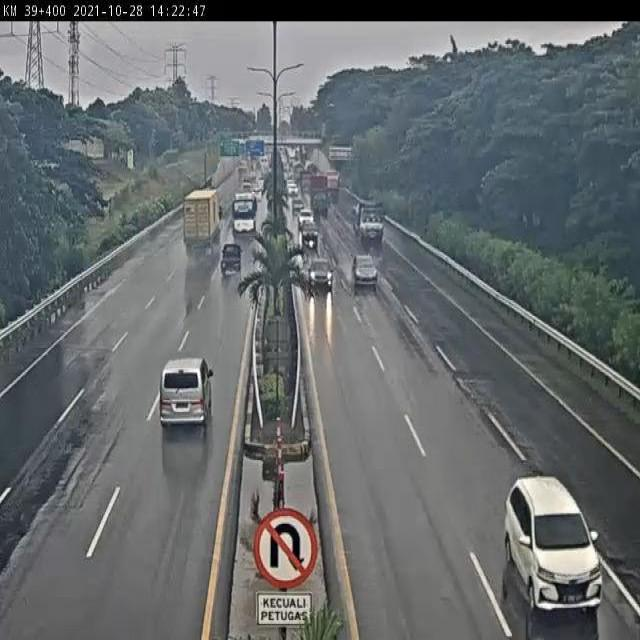bus-l-: (230, 192, 257, 239)
car: (157, 356, 215, 432), (307, 254, 334, 294)
truck-l-: (353, 201, 388, 247)
truck-xl-: (184, 189, 221, 248)
